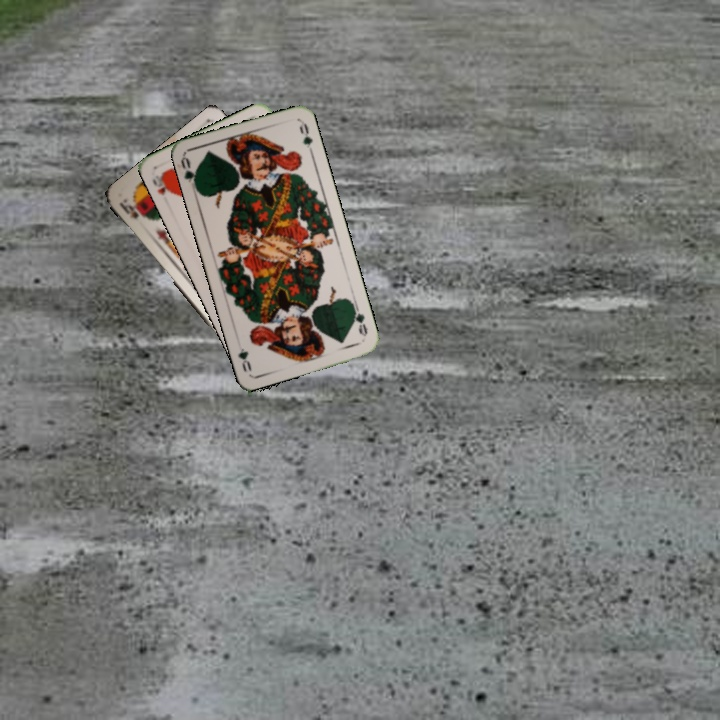GO: (177, 154, 200, 193), (349, 300, 370, 339)
HO: (148, 169, 175, 198)
SK: (115, 194, 147, 221)
